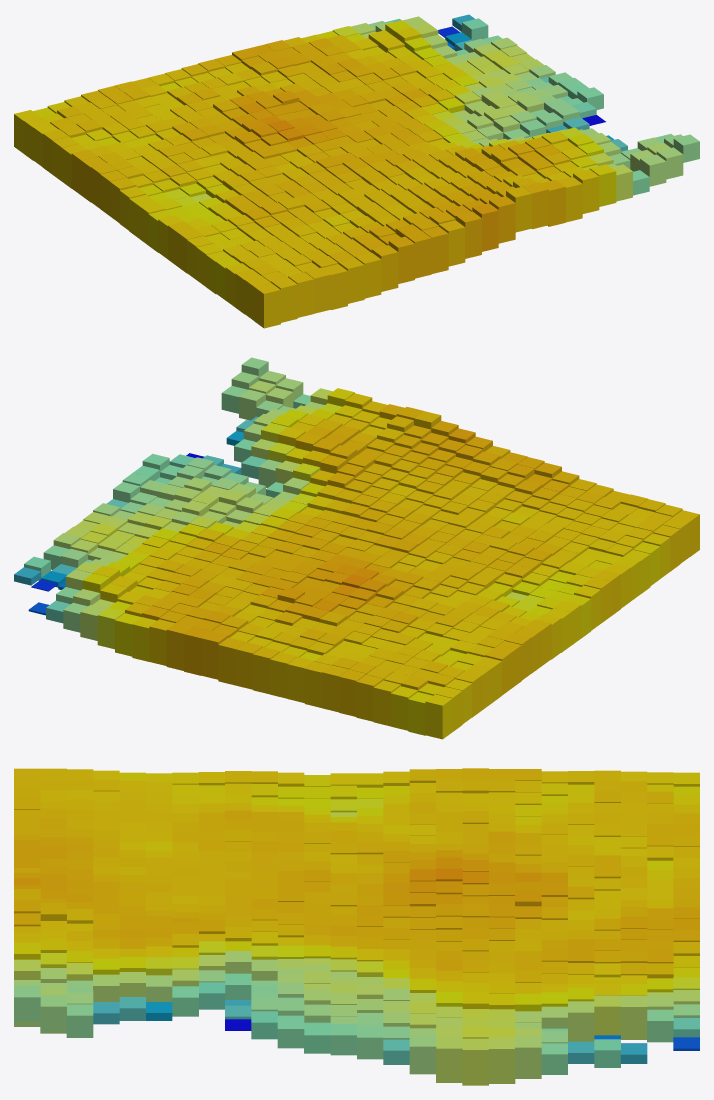
File: population.glb
The picture shows the model from 3 angles, top to bottom: view 1: azimuth 30°, elevation 25°; view 2: azimuth 150°, elevation 25°; view 3: azimuth 270°, elevation 25°; orthographic projection. The views are drawn at different scales.
Visible parts, largest first — view 1: population; view 2: population; view 3: population.
Boxes of the visible parts, box(x1,y1,x2,y2) form: population: box(14, 14, 699, 328); population: box(14, 357, 699, 739); population: box(14, 768, 699, 1085).
Bounding box in the file's own units: 2600 × 470 × 2584.
